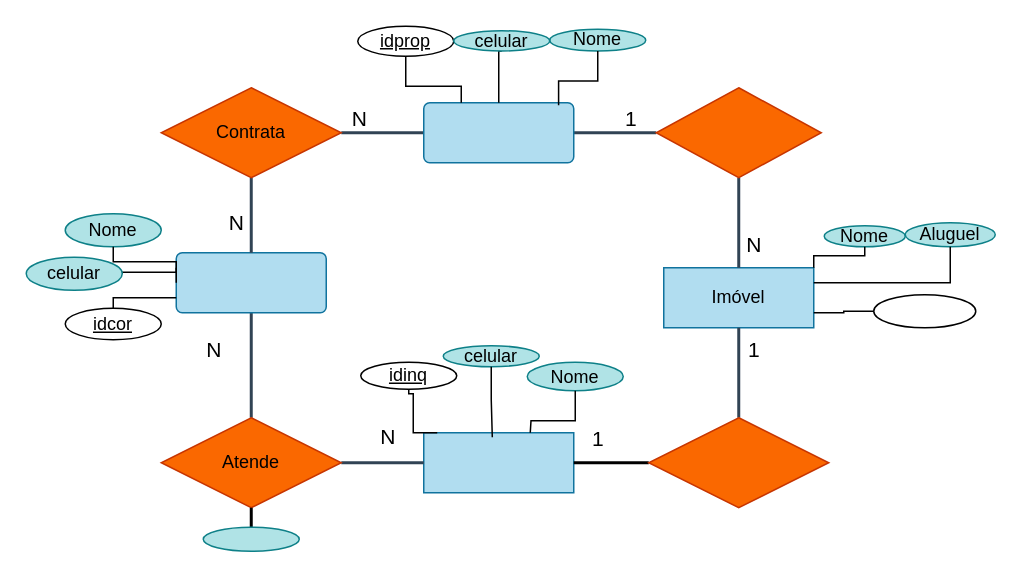
Some shapes in this 1022 by 578 pixel diagram are drawn without their labels. Here are the shapes that lost their labels. From the top down, the box of each, then its label:
(422, 101, 574, 163): Proprietário
(655, 86, 821, 178): possui
(175, 251, 326, 313): Corretor
(872, 293, 976, 328): idmov
(422, 431, 574, 493): Inquilino
(647, 416, 829, 508): Aluga
(202, 526, 299, 551): Data
